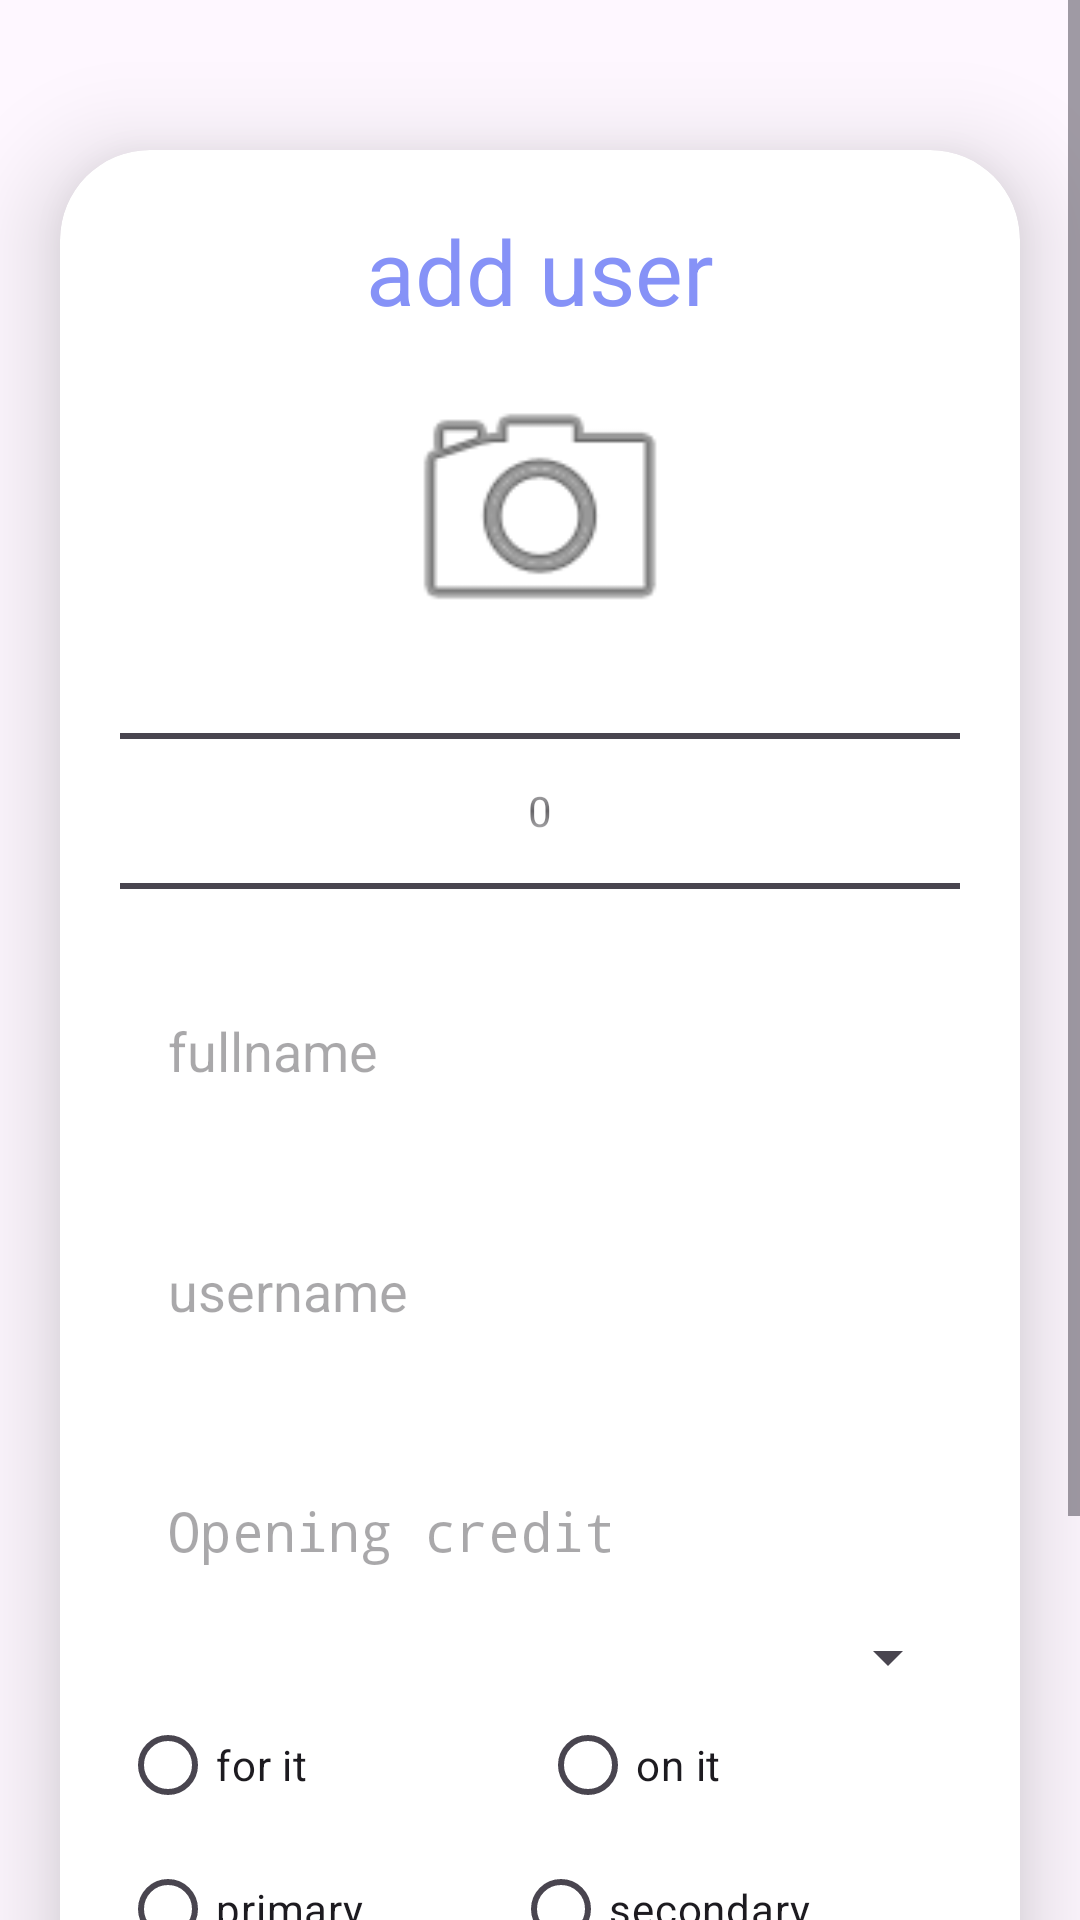

Icons on this 1080×1920 Android screen, each with its box as region(x1, y1, x2, y2):
camera: region(424, 414, 656, 599)
